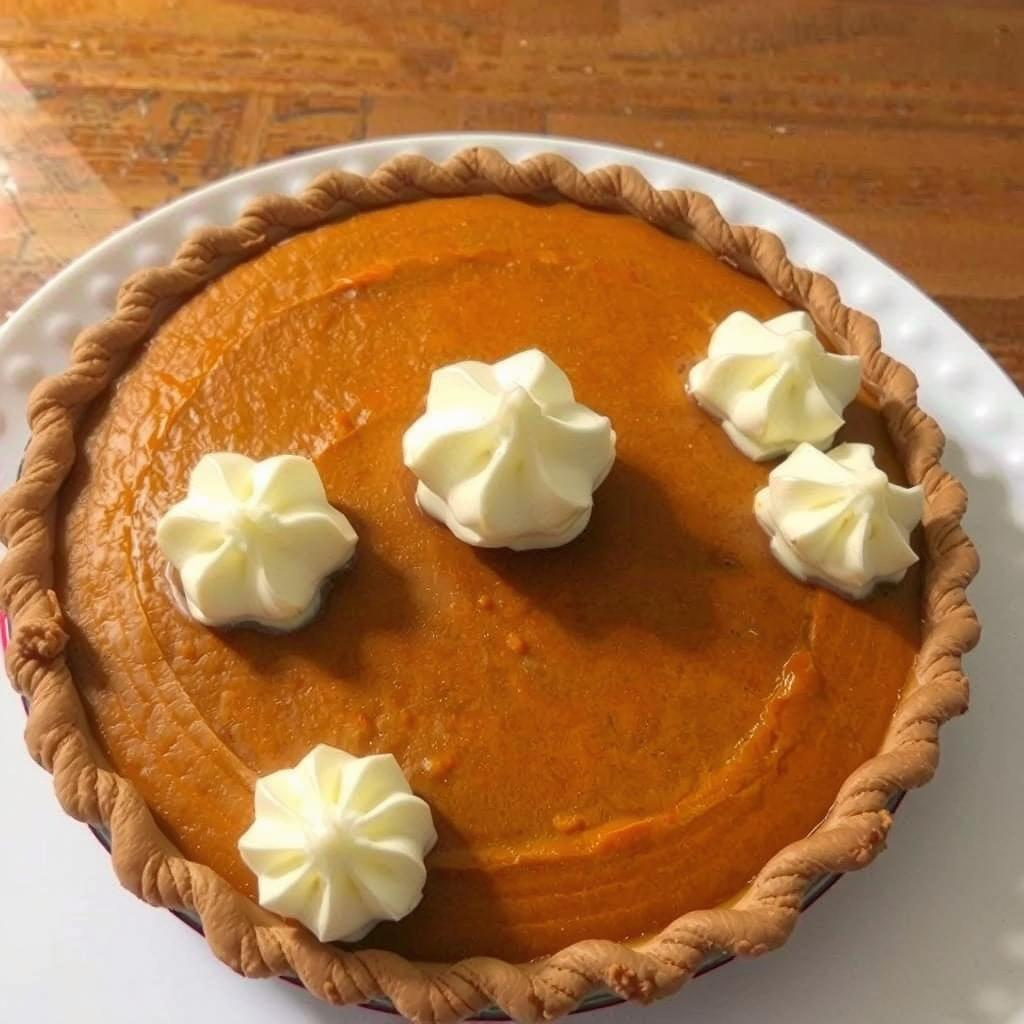pie: (0, 137, 993, 1024)
